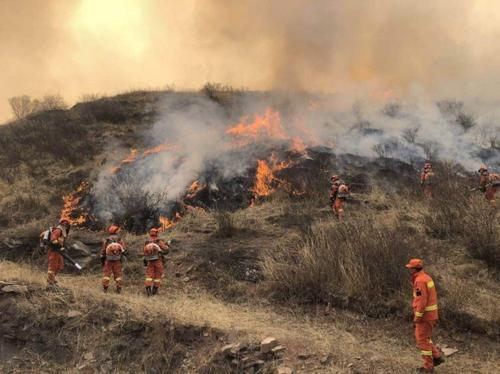fire: (244, 116, 285, 195)
smoke: (283, 81, 499, 159), (143, 114, 227, 198)
